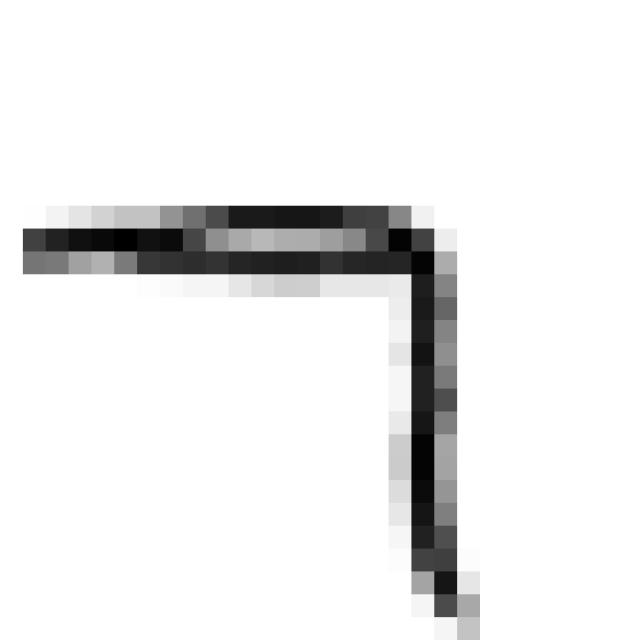6 -six-: (7, 187, 495, 640)
